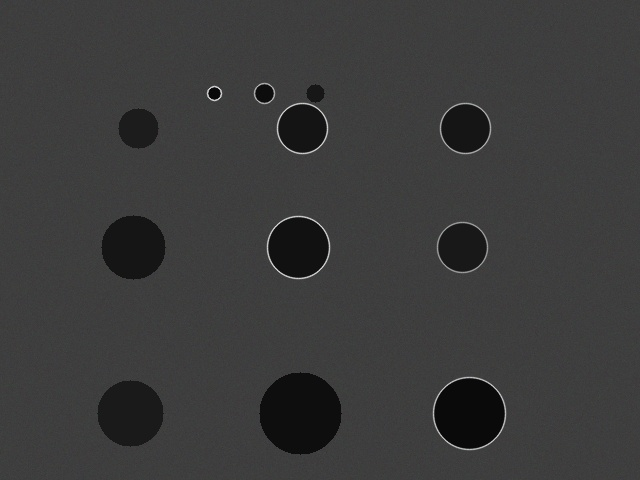hole: (259, 372, 341, 454), (433, 377, 505, 449), (97, 380, 163, 446), (101, 215, 165, 279), (267, 216, 329, 278), (277, 103, 327, 153), (440, 103, 490, 153), (437, 222, 487, 272), (118, 108, 158, 148), (254, 83, 274, 103), (306, 84, 324, 102), (207, 86, 221, 100)
